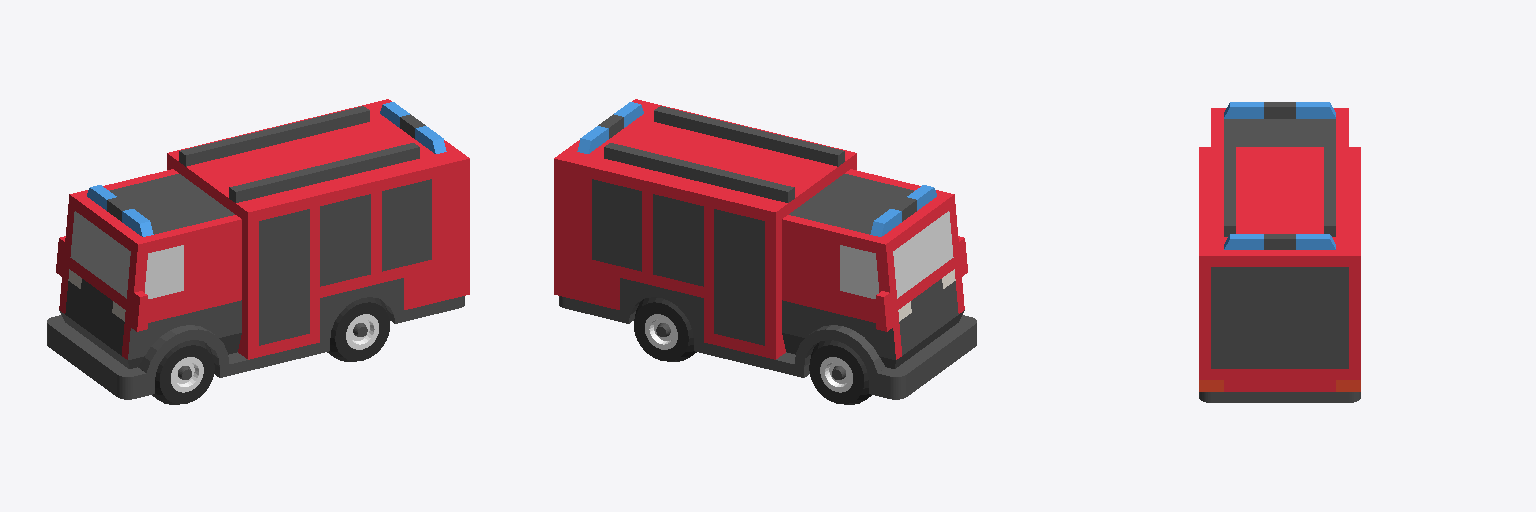
Rendered from firetruck.obj.
3 views of the same model, side by side, from view 1: azimuth 30°, elevation 25°; view 2: azimuth 150°, elevation 25°; view 3: azimuth 270°, elevation 25° (orthographic).
Visible parts, largest first — view 1: firetruck.004; view 2: firetruck.004; view 3: firetruck.004.
Part boxes in pixels (x1,y1,x2,y2): firetruck.004: (47,99,469,404); firetruck.004: (554,99,976,404); firetruck.004: (1199,102,1360,402).
Size of the model in its own units: 2.4 by 1.27 by 0.975.